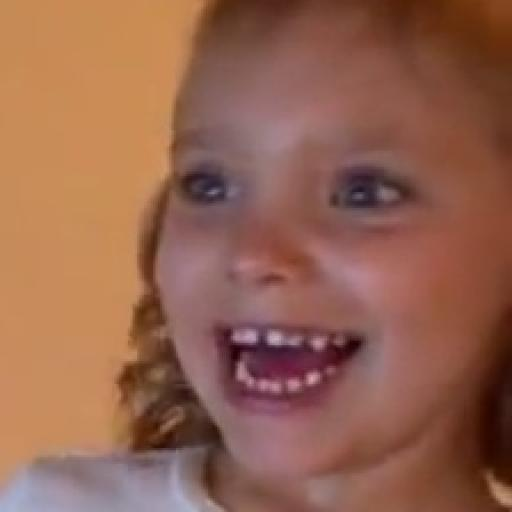Autism: (83, 0, 512, 447)
